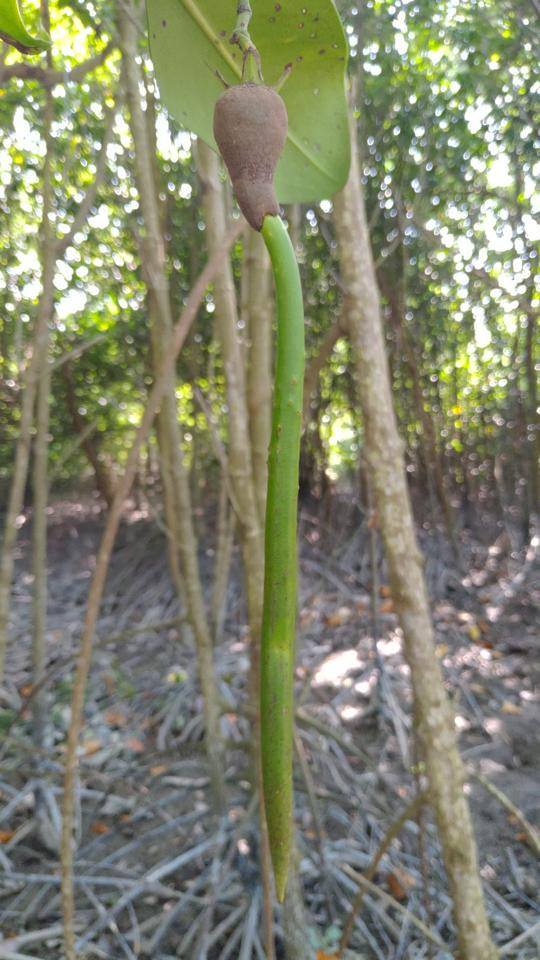mentah: (190, 59, 331, 912)
